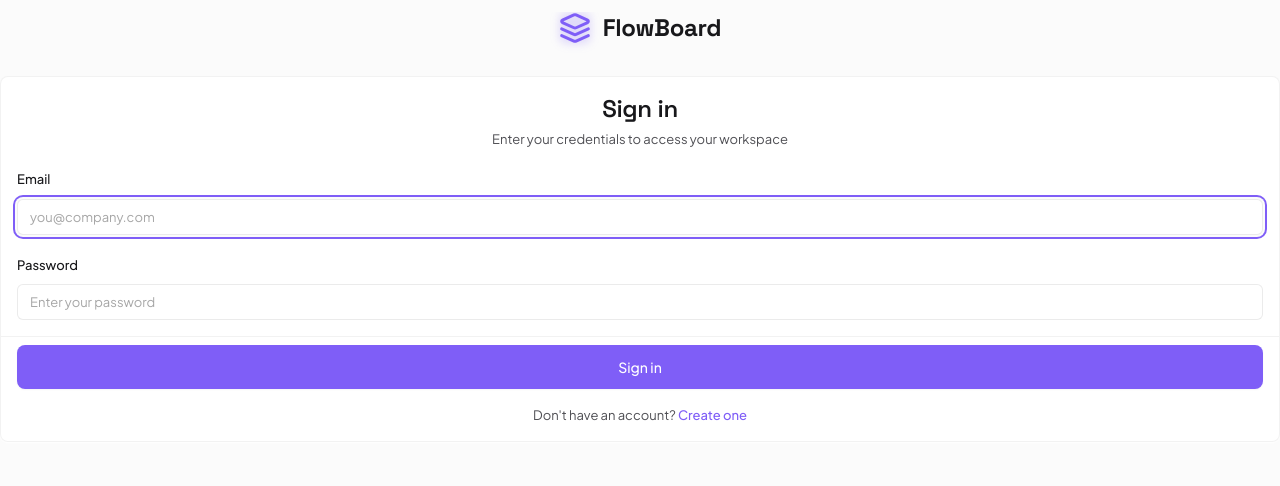
Test: LoginPage › displays validation errors for empty email and password on submit
This screenshot has width=1280, height=486.
Step 1. Click the button "Sign in" → (640,367), box [17,345,1263,389]
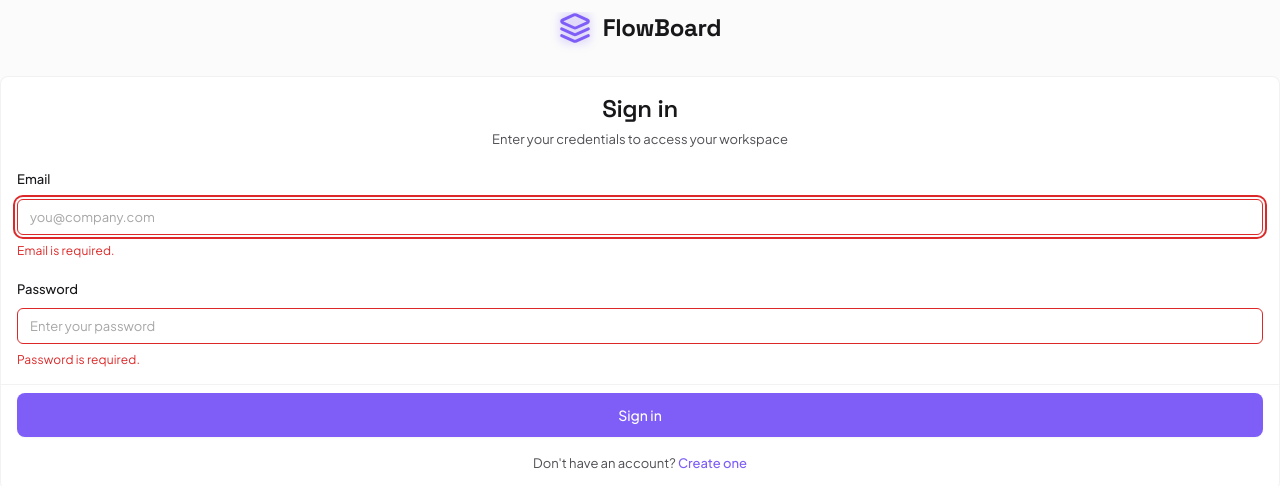
Check: the text "Email is required." is shown, box [17,243,115,258]
Check: the text "Password is required." is shown, box [17,352,140,367]
